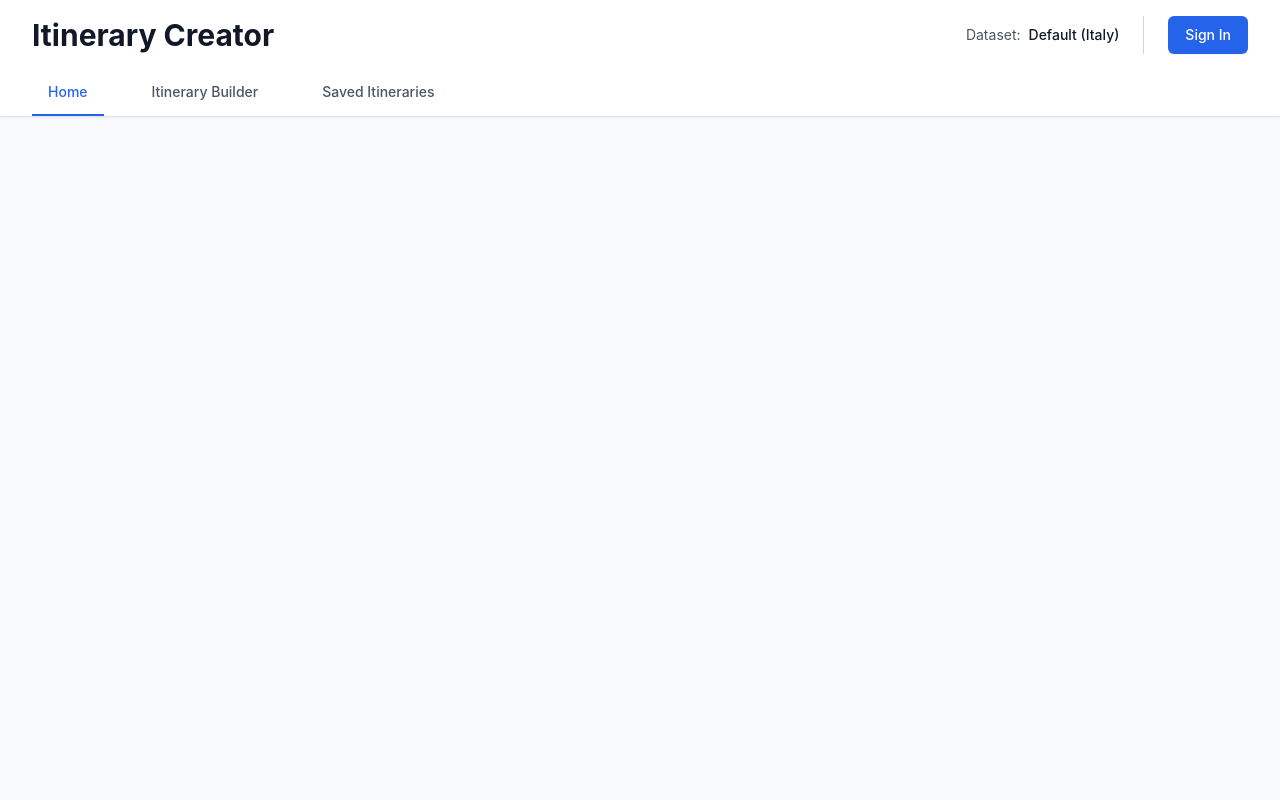
Test: Header Component - Authentication Status Display › Guest User Display › should open AuthModal when Sign In button is clicked
Step 1. Click the button with aria-label "sign in or create account" → {"x": 1208, "y": 35}, box [1168, 16, 1248, 54]
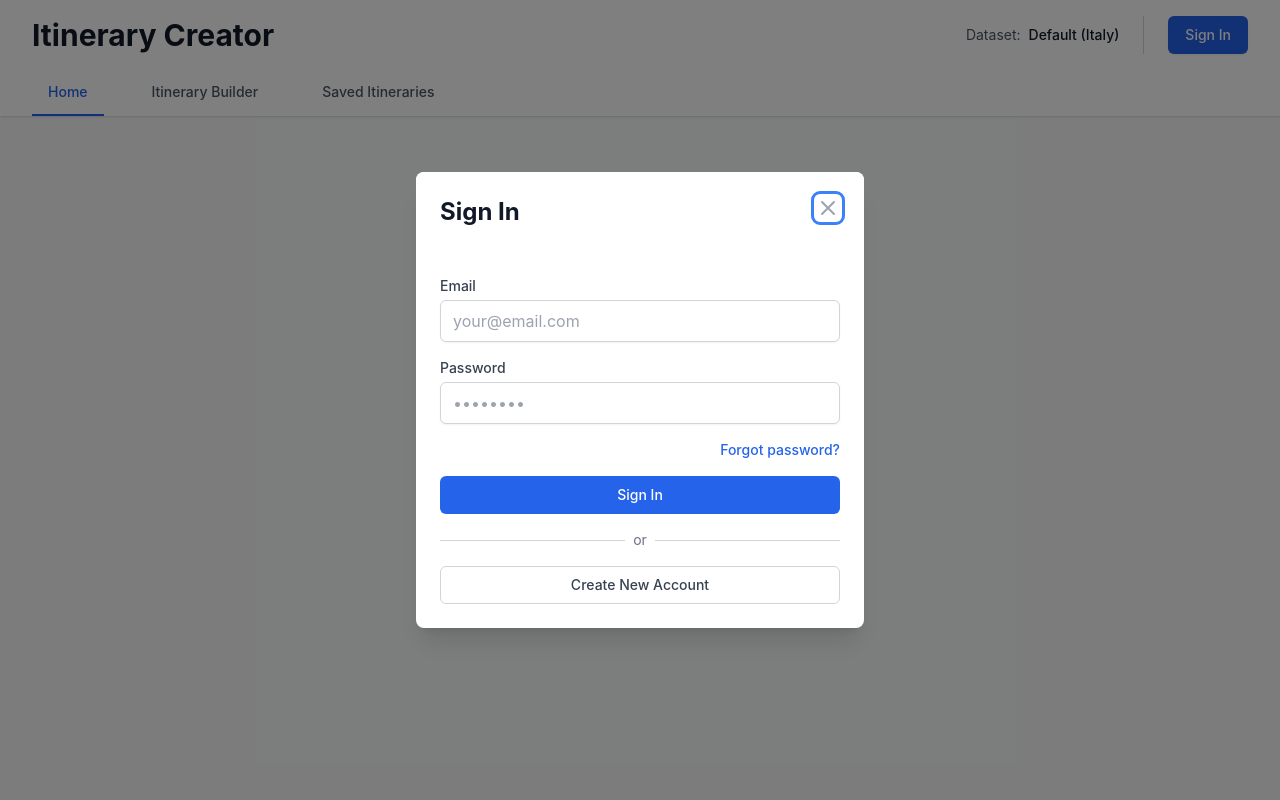
Expected: the heading "Sign In" is shown, [440, 197, 520, 226]
